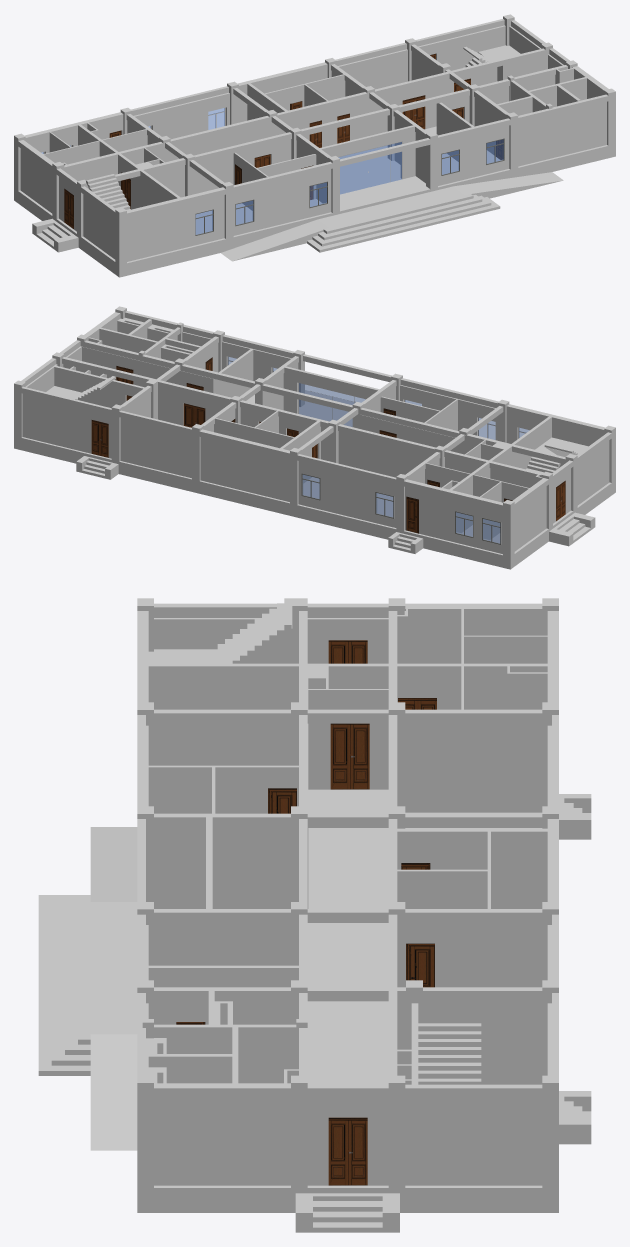
Rendered from tang1_full.glb.
3 renders of one model, top to bottom at view 1: azimuth 30°, elevation 25°; view 2: azimuth 150°, elevation 25°; view 3: azimuth 270°, elevation 25°, orthographic. The views are drawn at different scales.
Visible parts, largest first — view 1: G-Object.010, G-Object.020, G-Object.033, G-Object.034, G-Object.031, G-Object.032, G-Object.014, G-Object.013, G-Object.042, G-Object.037, G-Object.040, G-Object.041 (+2 smaller); view 2: G-Object.010, G-Object.020, G-Object.033, G-Object.034, G-Object.031, G-Object.032, G-Object.014, G-Object.025, G-Object.013, G-Object.039, G-Object.038, G-Object.023 (+3 smaller); view 3: G-Object.010, G-Object.020, G-Object.033, G-Object.031, G-Object.034, G-Object.013, G-Object.014, G-Object.016, G-Object.035, G-Object.001, G-Object.015.
Boxes of the visible parts, box(x1,y1,x2,y2) form: G-Object.010: box(20, 25, 606, 261); G-Object.020: box(18, 19, 608, 218); G-Object.033: box(14, 146, 615, 277); G-Object.034: box(14, 14, 615, 267); G-Object.031: box(18, 126, 608, 265); G-Object.032: box(338, 142, 401, 194); G-Object.014: box(86, 174, 130, 210); G-Object.013: box(463, 45, 520, 67); G-Object.042: box(235, 199, 254, 226); G-Object.037: box(195, 209, 213, 235); G-Object.040: box(486, 138, 504, 164); G-Object.041: box(441, 149, 459, 175); G-Object.010: box(22, 313, 609, 553); G-Object.020: box(21, 311, 611, 510); G-Object.033: box(14, 390, 615, 569); G-Object.034: box(14, 306, 615, 559); G-Object.031: box(21, 394, 611, 557); G-Object.032: box(299, 383, 365, 426); G-Object.014: box(526, 437, 588, 473); G-Object.025: box(91, 420, 108, 457); G-Object.013: box(46, 376, 115, 400); G-Object.039: box(375, 491, 394, 518); G-Object.038: box(482, 517, 501, 544); G-Object.023: box(183, 403, 205, 427); G-Object.010: box(142, 607, 551, 1185); G-Object.020: box(137, 603, 558, 1098); G-Object.033: box(38, 794, 591, 1232); G-Object.031: box(154, 789, 542, 1193); G-Object.034: box(137, 598, 558, 1193); G-Object.013: box(418, 1023, 481, 1084); G-Object.014: box(148, 598, 292, 663); G-Object.016: box(328, 1117, 367, 1185); G-Object.035: box(330, 723, 369, 789); G-Object.001: box(406, 943, 434, 987); G-Object.015: box(328, 640, 367, 663).
Bounding box in the file's own units: 42.82 × 5.93 × 19.08.
7 materials, 5 textured.
